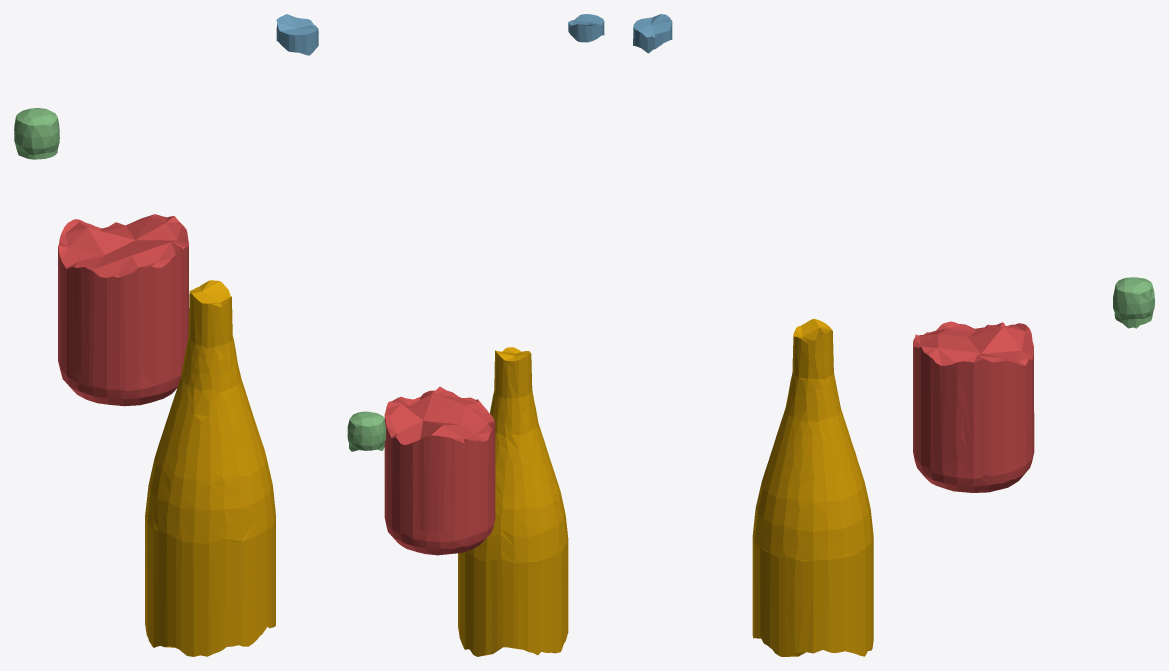
The model's file is fractured_18_4pcs_transformed.glb.
The picture shows the model from 3 angles, left to right: view 1: azimuth 30°, elevation 25°; view 2: azimuth 150°, elevation 25°; view 3: azimuth 270°, elevation 25°; orthographic projection. The views are drawn at different scales.
Parts seen in each view (by area): view 1: piece_0.obj, piece_1.obj, piece_3.obj, piece_2.obj; view 2: piece_0.obj, piece_1.obj, piece_3.obj, piece_2.obj; view 3: piece_0.obj, piece_1.obj, piece_3.obj, piece_2.obj.
Boxes of the visible parts, x1=… form: piece_0.obj: x1=145, y1=280, x2=275, y2=656; piece_1.obj: x1=58, y1=214, x2=188, y2=406; piece_3.obj: x1=14, y1=108, x2=59, y2=159; piece_2.obj: x1=276, y1=14, x2=318, y2=55; piece_0.obj: x1=458, y1=347, x2=568, y2=656; piece_1.obj: x1=384, y1=386, x2=495, y2=555; piece_3.obj: x1=347, y1=411, x2=385, y2=451; piece_2.obj: x1=568, y1=14, x2=604, y2=42; piece_0.obj: x1=752, y1=318, x2=873, y2=656; piece_1.obj: x1=913, y1=321, x2=1034, y2=492; piece_3.obj: x1=1113, y1=277, x2=1154, y2=328; piece_2.obj: x1=633, y1=14, x2=672, y2=53.
Size of the model in its own units: 0.2268 by 1.29 by 0.9761.
